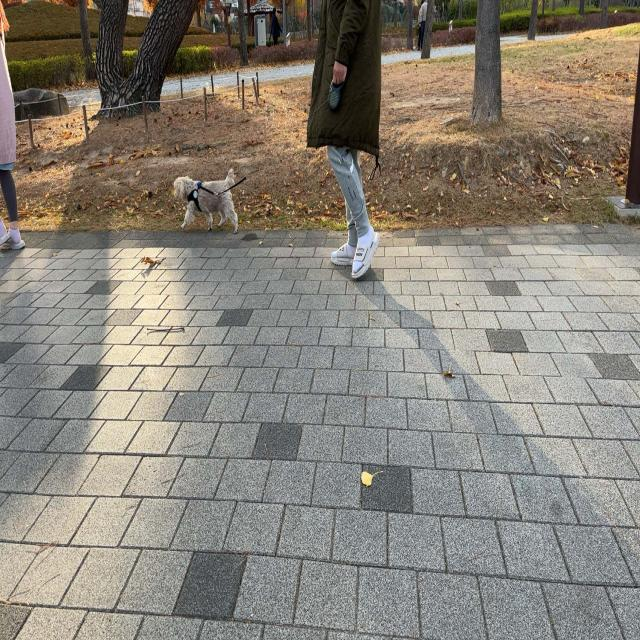Leashed_Dog: (173, 59, 351, 236)
